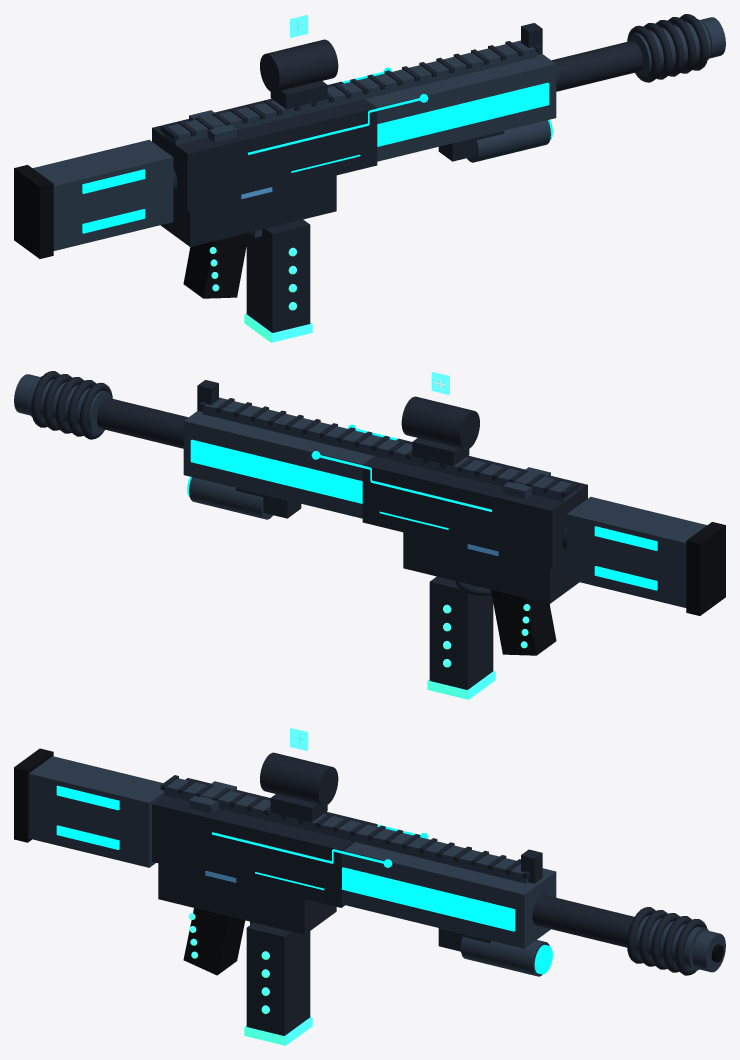
Rendered from hellfire_rifle (1).glb.
3 views of the same model, one above another, from view 1: azimuth 30°, elevation 25°; view 2: azimuth 150°, elevation 25°; view 3: azimuth 330°, elevation 25° (orthographic).
Bounding box in the file's own units: 4.02 × 1.7 × 0.406.
